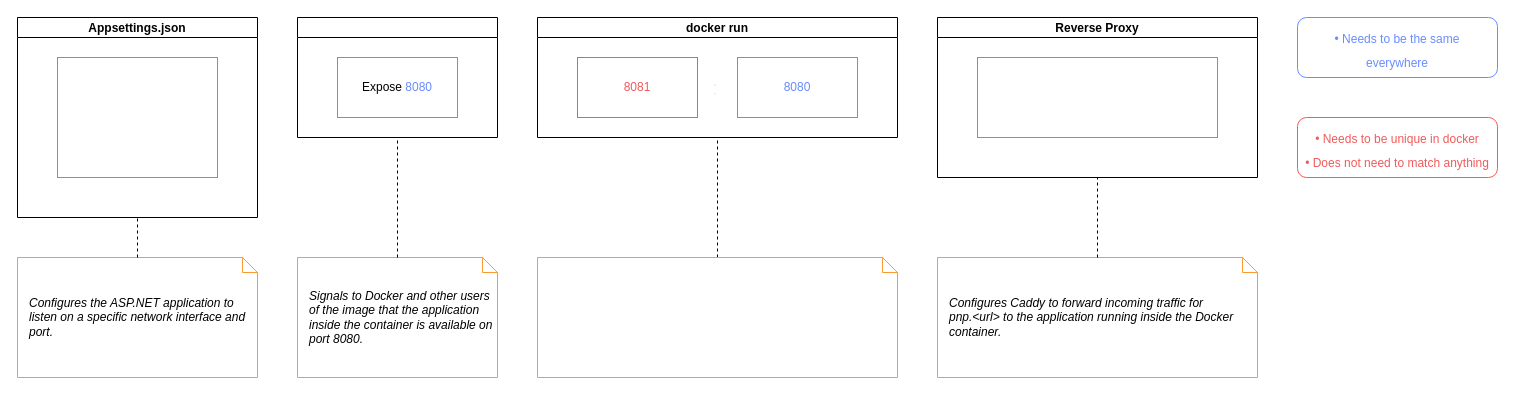
Image size: 1515x395. Some labels were removed from this diagram. Here are the shapes that lost their labels. From the top down, the box of each, then its label:
(296, 16, 498, 138): Dockerfile
(976, 56, 1218, 138): pnp.<url> { reverse_proxy PenAndPaperServer: 8080 }
(56, 56, 218, 178): "Kestrel": { "Endpoints": { "Http": { "Url": "http://0.0.0.0: 8080 " } } }
(536, 256, 898, 378): Maps ports from the host machine (left) to the container (right).
